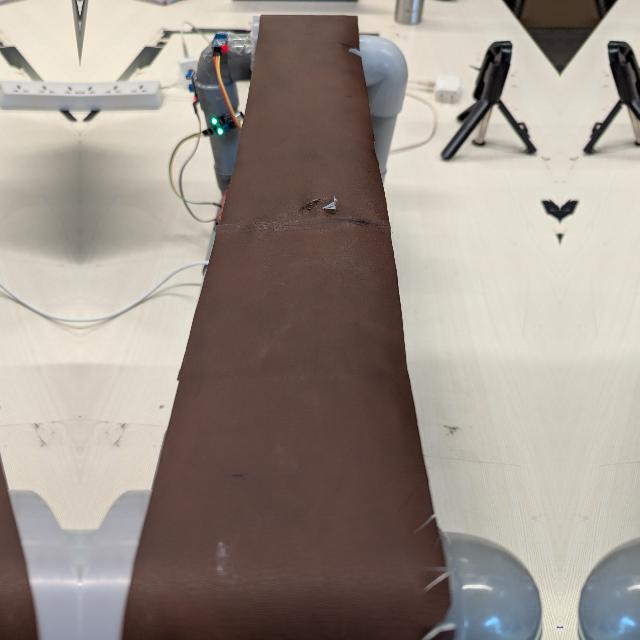edge_damage: (407, 494, 468, 640)
joint_damage: (309, 188, 351, 230)
